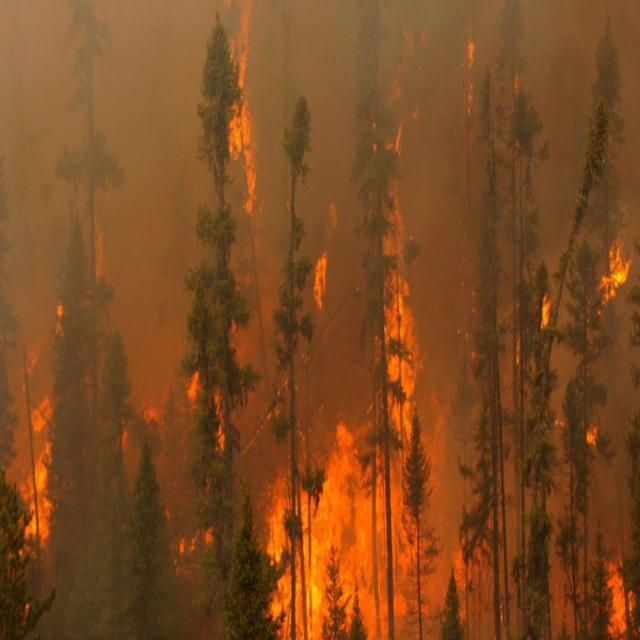Fire: (270, 176, 433, 633), (13, 312, 66, 542), (234, 22, 255, 216), (588, 230, 630, 320), (187, 368, 229, 444), (172, 517, 210, 570), (606, 552, 632, 628), (465, 36, 475, 116), (539, 294, 553, 326), (585, 424, 598, 446)
